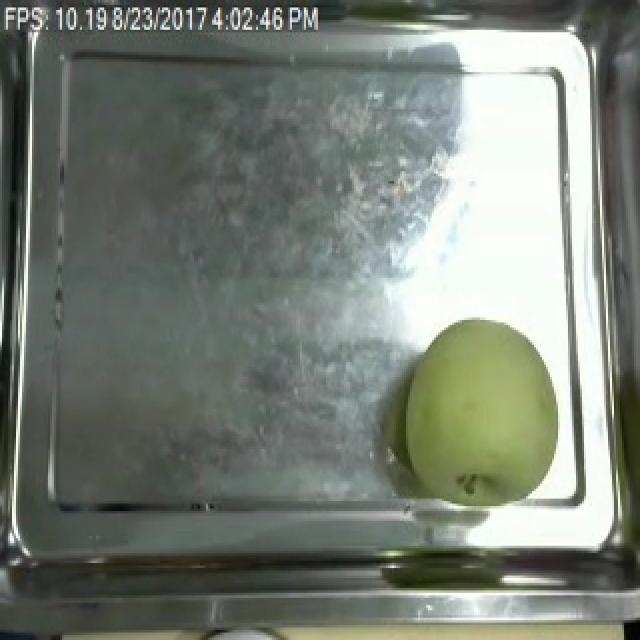50-_ripeness: (394, 314, 580, 526)
